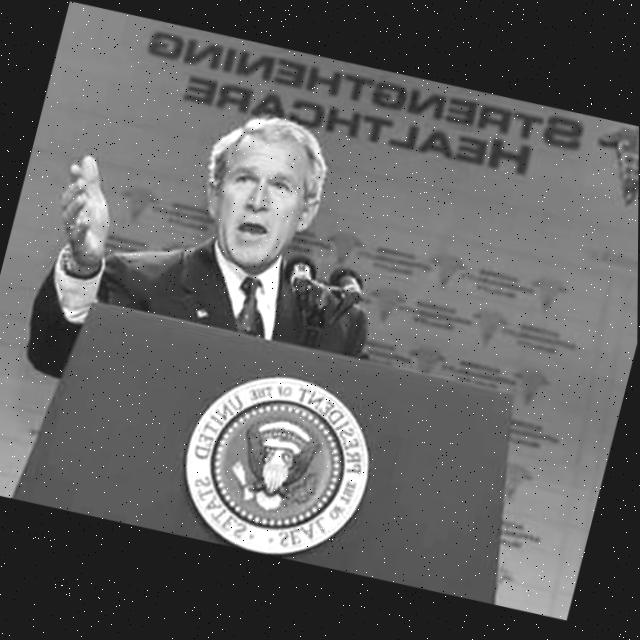face: (188, 106, 335, 283)
